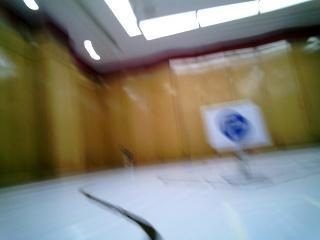right: (206, 106, 269, 142)
